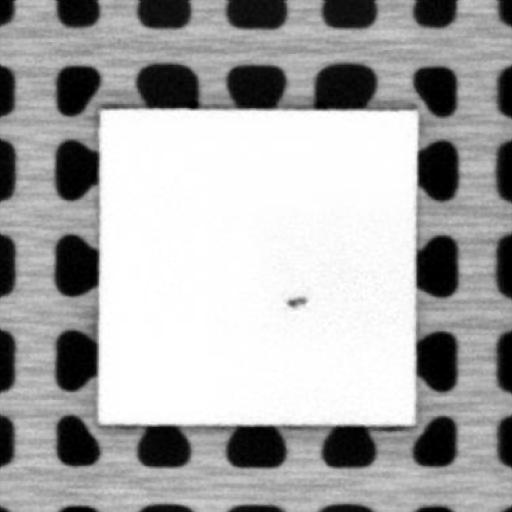DIE_INK: (282, 292, 307, 306)
